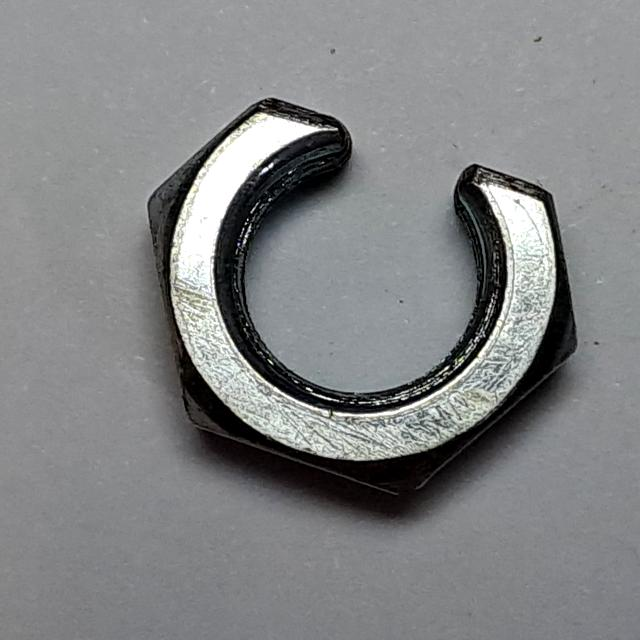Fracture: (130, 83, 589, 511)
